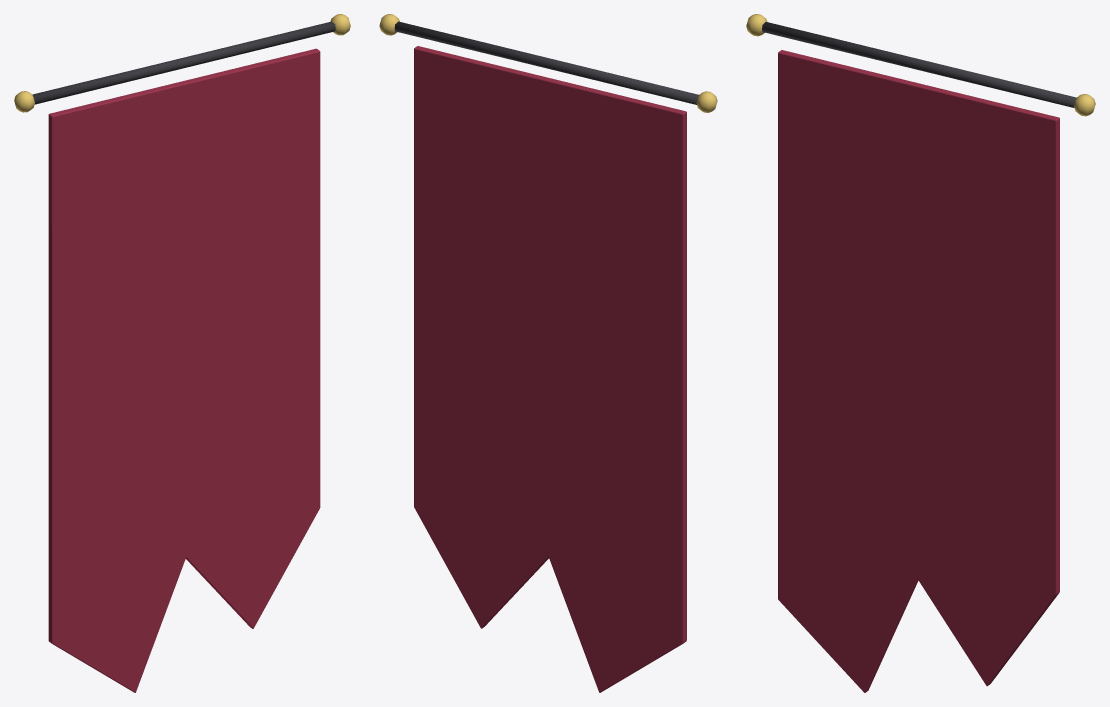
Rendered from banner_torn_banner.glb.
3 renders of one model, left to right at view 1: azimuth 30°, elevation 25°; view 2: azimuth 150°, elevation 25°; view 3: azimuth 330°, elevation 25°, orthographic. The views are drawn at different scales.
Parts seen in each view (by area): view 1: GD_banner_torn_banner__m2, GD_banner_torn_banner__m0, GD_banner_torn_banner__m1; view 2: GD_banner_torn_banner__m2, GD_banner_torn_banner__m0, GD_banner_torn_banner__m1; view 3: GD_banner_torn_banner__m2, GD_banner_torn_banner__m0, GD_banner_torn_banner__m1.
Boxes of the visible parts, x1,y1,x2,y2 form: GD_banner_torn_banner__m2: [48, 48, 320, 692]; GD_banner_torn_banner__m0: [32, 21, 335, 104]; GD_banner_torn_banner__m1: [14, 14, 350, 112]; GD_banner_torn_banner__m2: [414, 46, 686, 692]; GD_banner_torn_banner__m0: [394, 21, 698, 104]; GD_banner_torn_banner__m1: [379, 14, 717, 112]; GD_banner_torn_banner__m2: [778, 50, 1059, 692]; GD_banner_torn_banner__m0: [762, 22, 1076, 107]; GD_banner_torn_banner__m1: [746, 14, 1095, 116].
Bounding box in the file's own units: 0.996 × 1.78 × 0.056.
